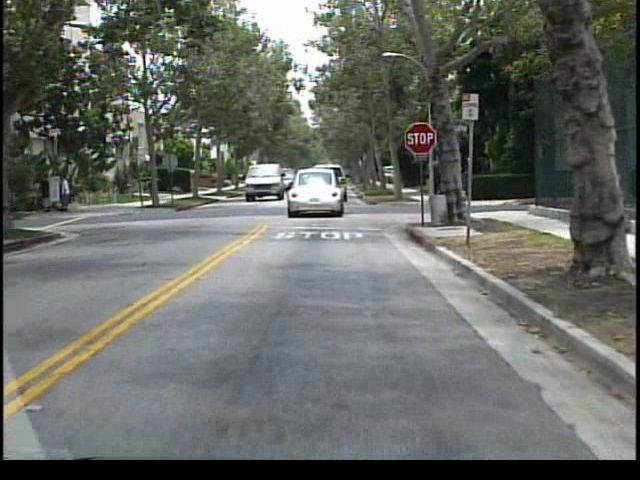person: (60, 168, 75, 214), (42, 171, 56, 215)
